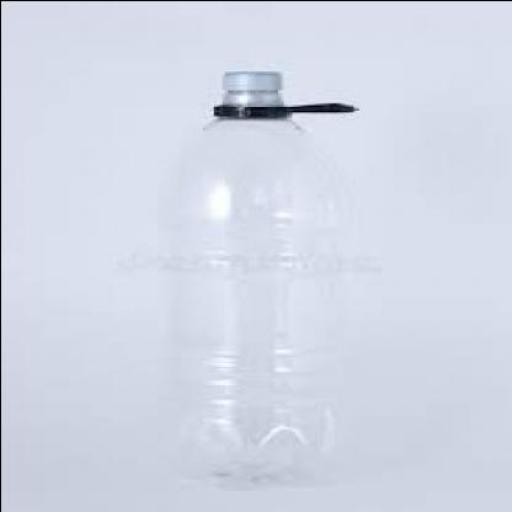plastic: (154, 67, 333, 488), (204, 66, 356, 120)
